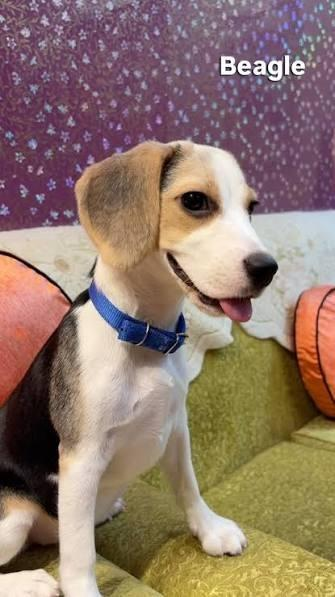puppy-dog: (0, 138, 279, 597)
